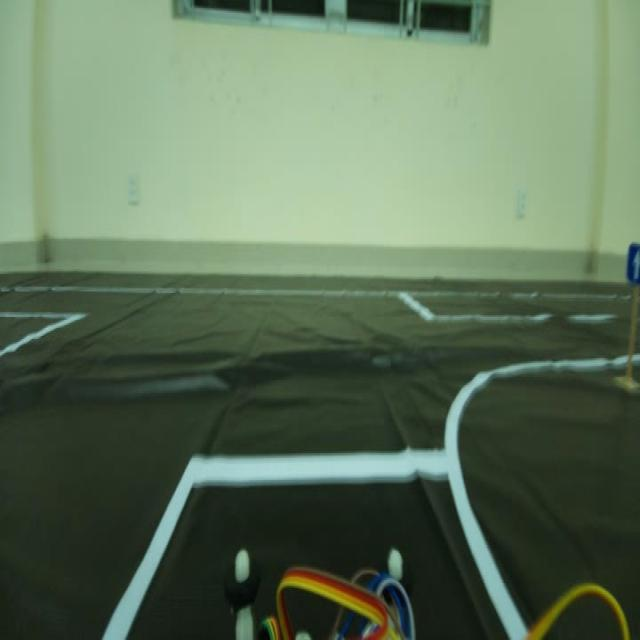onewayroad: (621, 238, 640, 284)
